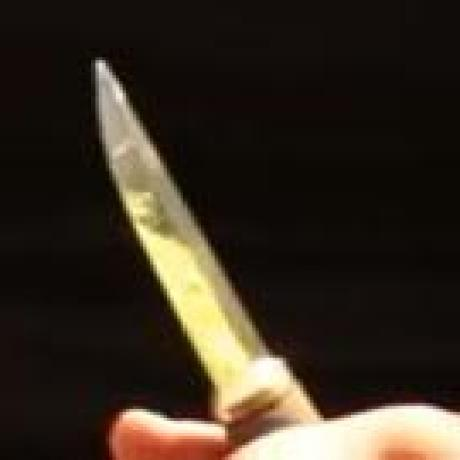weapon: (92, 55, 330, 450)
